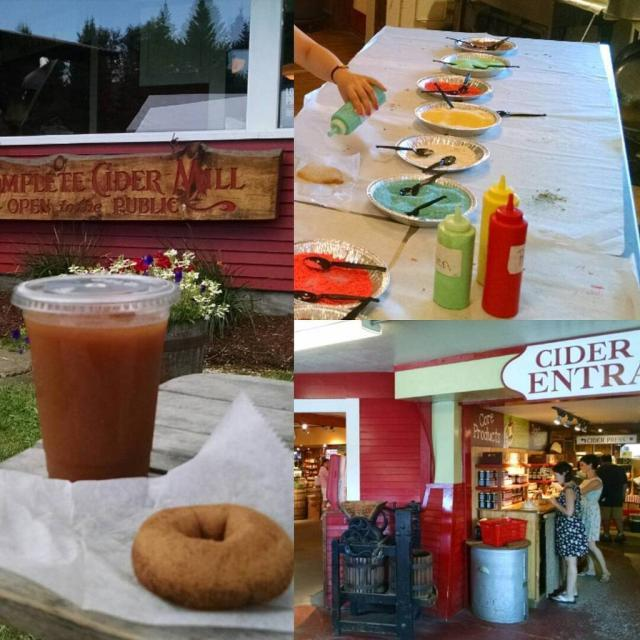Bagel: (132, 504, 296, 614)
